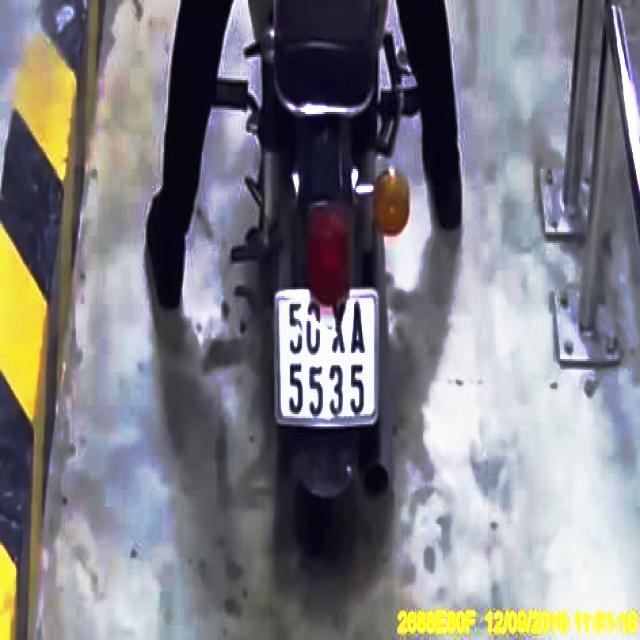license_plate: (277, 292, 378, 419)
